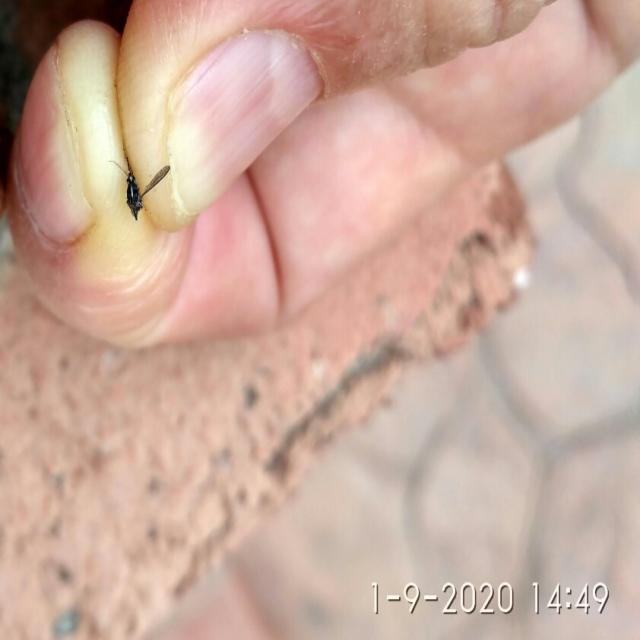albopictus: (99, 135, 175, 226)
